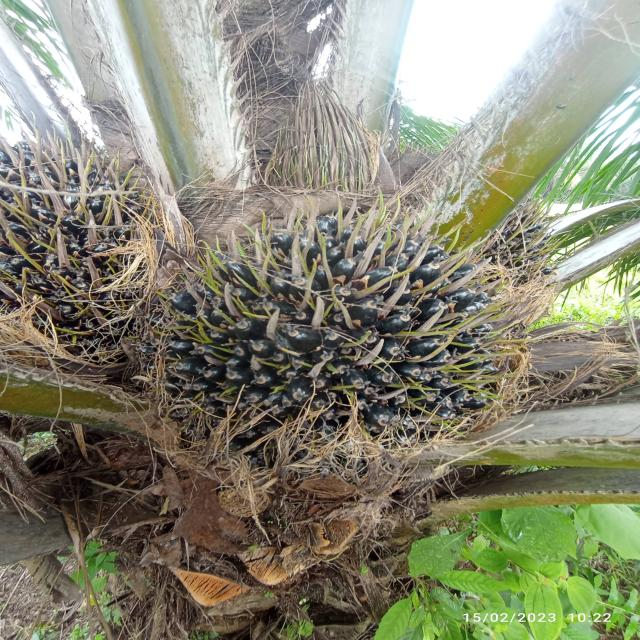fraksi 00: (120, 183, 544, 494), (0, 108, 190, 375)
